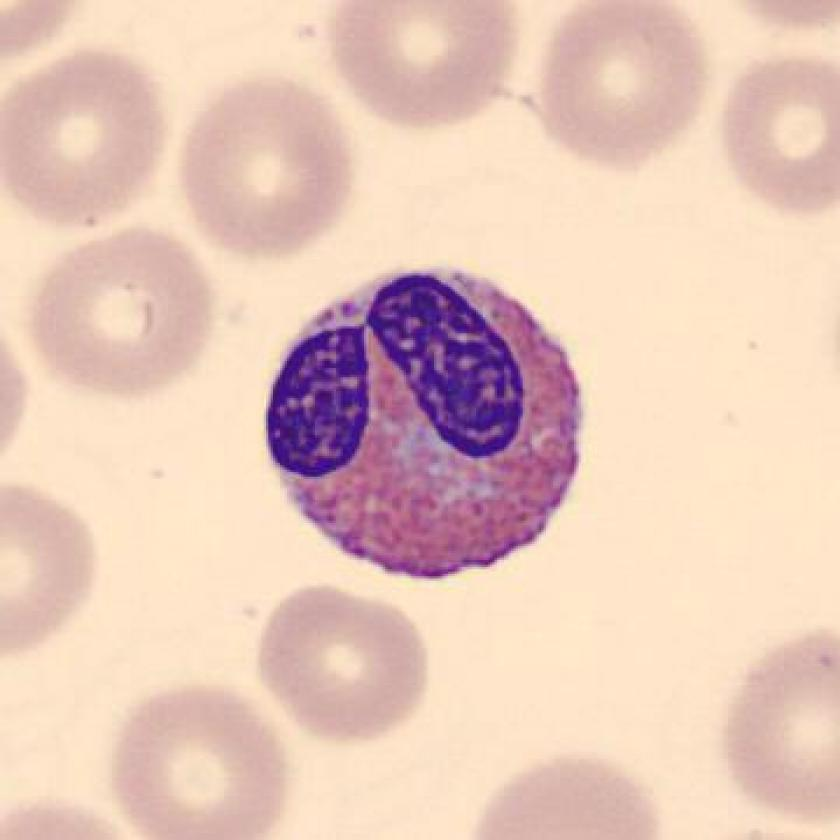eosinophil: (255, 253, 596, 591)
